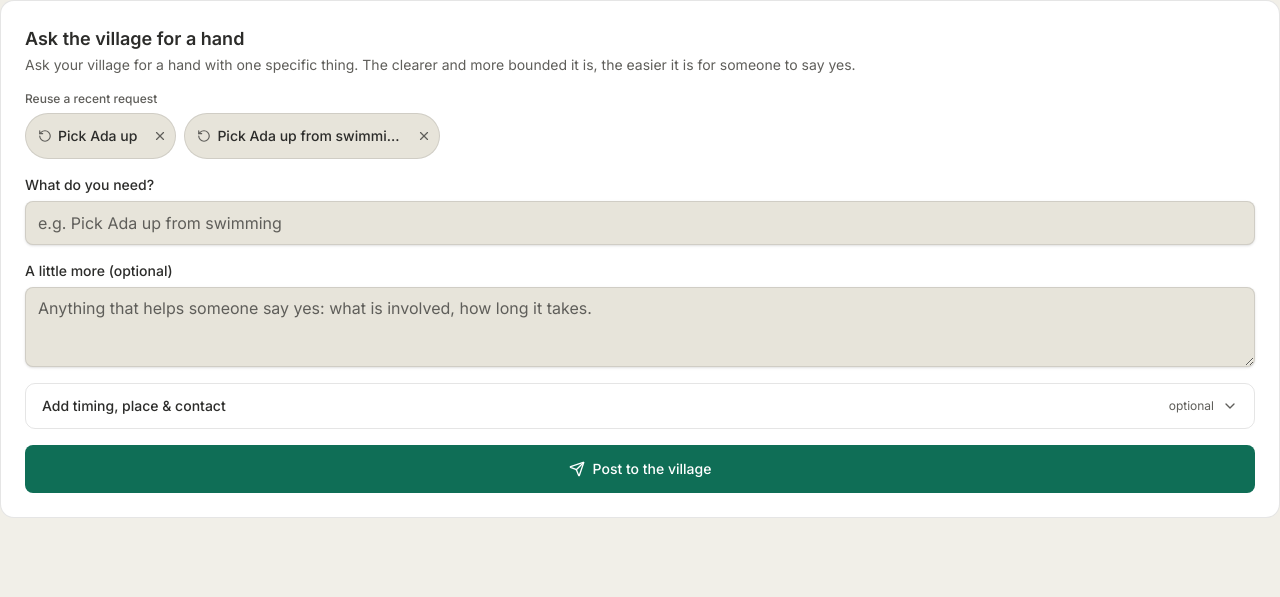
Test: PostNeedForm › surfaces a non-consent post failure inline (not the consent gate)
This screenshot has width=1280, height=597.
Step 1. Type "Pick Ada up" into the field labelled "What do you need?" → (640, 223), box [25, 201, 1255, 245]
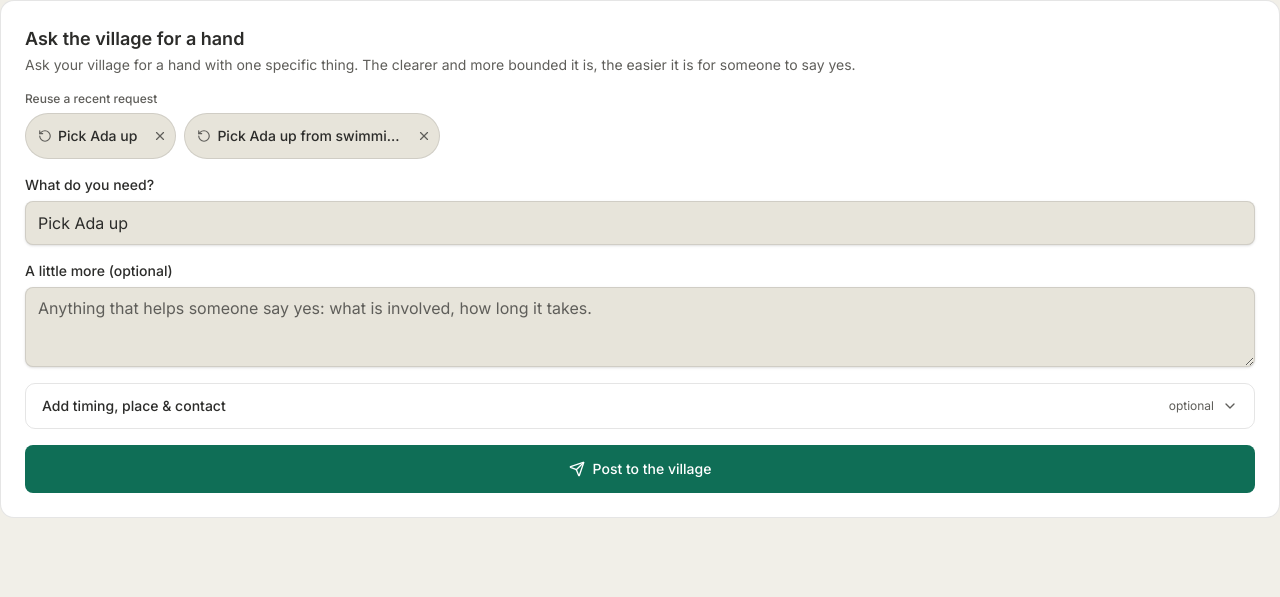
Step 2. Click the button "Post to the village" → (640, 469), box [25, 445, 1255, 493]
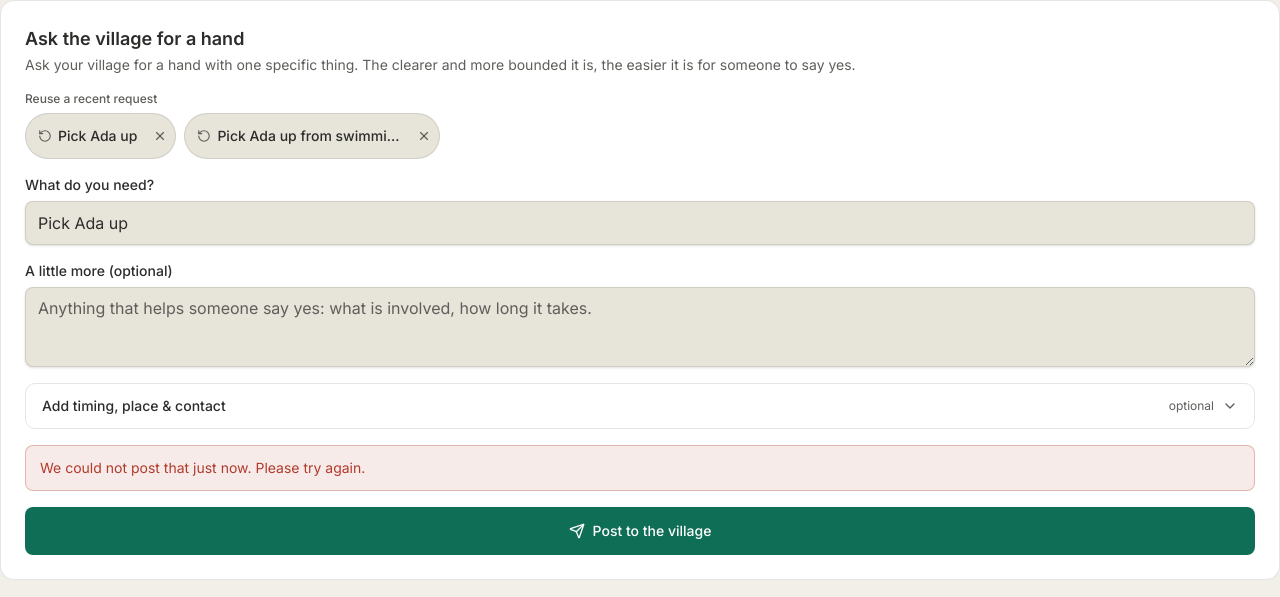
Check: the message shows "could not post that just now", box [40, 459, 365, 476]
